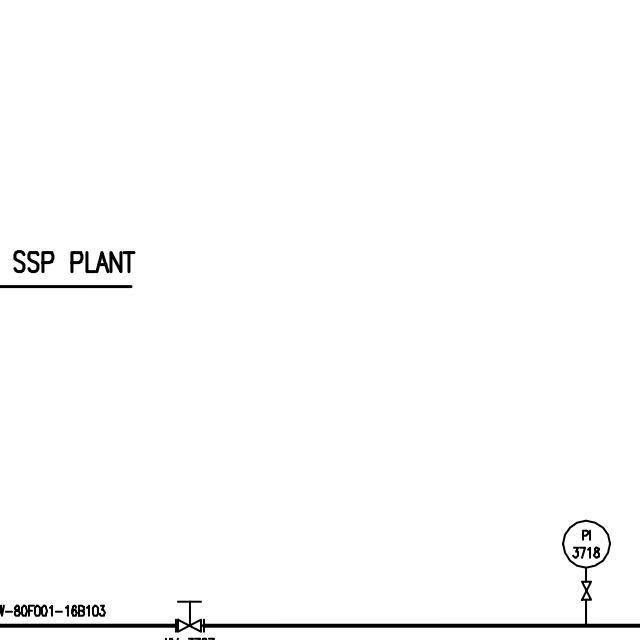GV: (579, 578, 594, 604)
HVWT: (172, 593, 209, 636)
